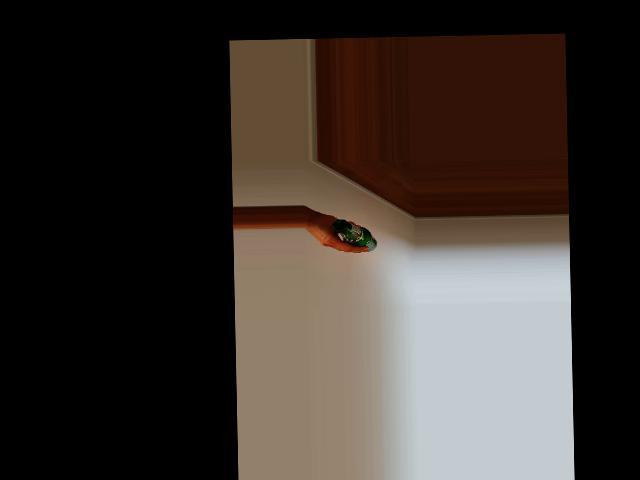beer: (332, 217, 376, 251)
